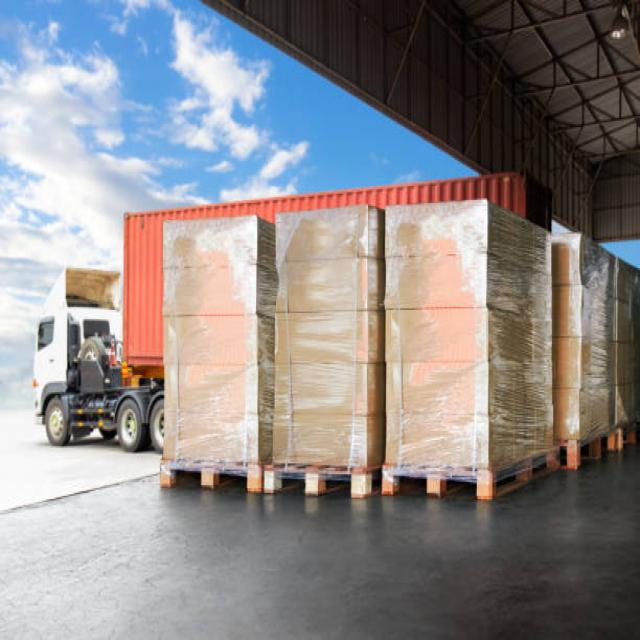Wooden-Pallets: (379, 442, 565, 510), (269, 456, 381, 504), (159, 459, 261, 497)
